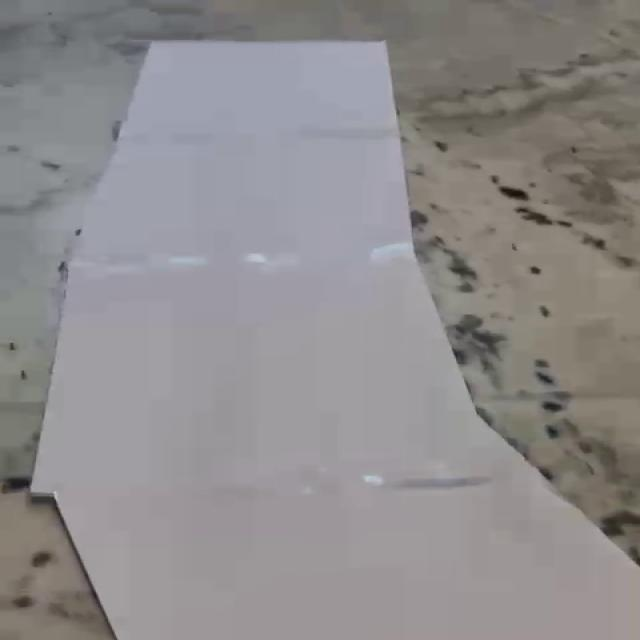road: (29, 40, 640, 640)
